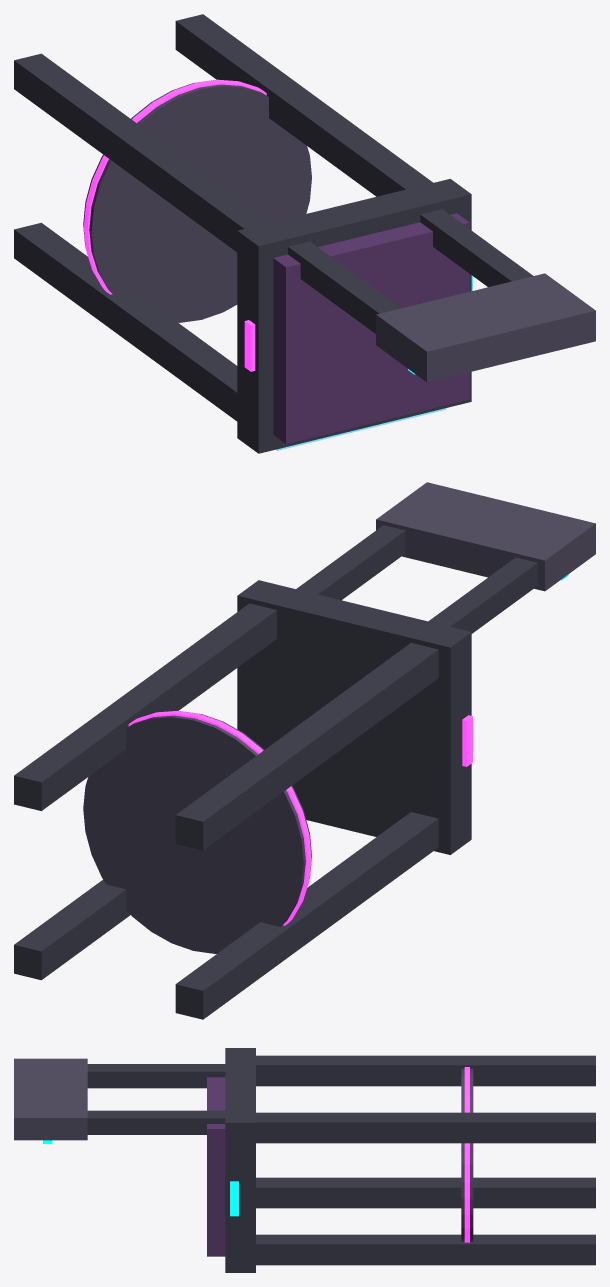
Rendered from backrest_barstool.glb.
3 renders of one model, top to bottom at view 1: azimuth 30°, elevation 25°; view 2: azimuth 150°, elevation 25°; view 3: azimuth 270°, elevation 25°, orthographic. The views are drawn at different scales.
Parts seen in each view (by area): view 1: footrest_ring, seat_cushion, seat_shell, backrest_panel, leg_2, leg_3, leg_0, back_post_left, back_post_right, footrest_glow, left_side_trim; view 2: seat_shell, footrest_ring, leg_2, backrest_panel, leg_0, leg_3, leg_1, back_post_right, back_post_left, footrest_glow; view 3: leg_3, leg_1, leg_2, leg_0, seat_shell, backrest_panel, back_post_left, back_post_right, seat_cushion, footrest_ring, footrest_glow, right_side_trim.
Part boxes in pixels (x1,y1,x2,y2): footrest_ring: [83, 80, 311, 322]; seat_cushion: [273, 213, 469, 443]; seat_shell: [237, 179, 471, 453]; backrest_panel: [376, 273, 595, 382]; leg_2: [14, 53, 271, 252]; leg_3: [175, 14, 433, 196]; leg_0: [14, 222, 237, 421]; back_post_left: [288, 241, 400, 333]; back_post_right: [420, 209, 533, 286]; footrest_glow: [83, 79, 309, 322]; left_side_trim: [244, 320, 255, 371]; seat_shell: [237, 580, 471, 854]; footrest_ring: [83, 711, 311, 953]; leg_2: [175, 643, 438, 850]; backrest_panel: [376, 482, 595, 591]; leg_0: [175, 812, 438, 1019]; leg_3: [14, 603, 276, 810]; leg_1: [14, 880, 130, 980]; back_post_right: [296, 525, 405, 600]; back_post_left: [428, 557, 537, 633]; footrest_glow: [86, 710, 311, 925]; leg_3: [256, 1112, 595, 1143]; leg_1: [256, 1234, 595, 1265]; leg_2: [256, 1055, 595, 1086]; leg_0: [256, 1177, 595, 1208]; seat_shell: [225, 1048, 255, 1272]; backrest_panel: [14, 1058, 87, 1140]; back_post_left: [87, 1064, 225, 1088]; back_post_right: [87, 1110, 225, 1134]; seat_cushion: [207, 1077, 225, 1256]; footrest_ring: [461, 1068, 473, 1241]; footrest_glow: [464, 1067, 469, 1242]; right_side_trim: [230, 1181, 238, 1216].
Size of the model in its own units: 0.61 by 0.61 by 1.9.
